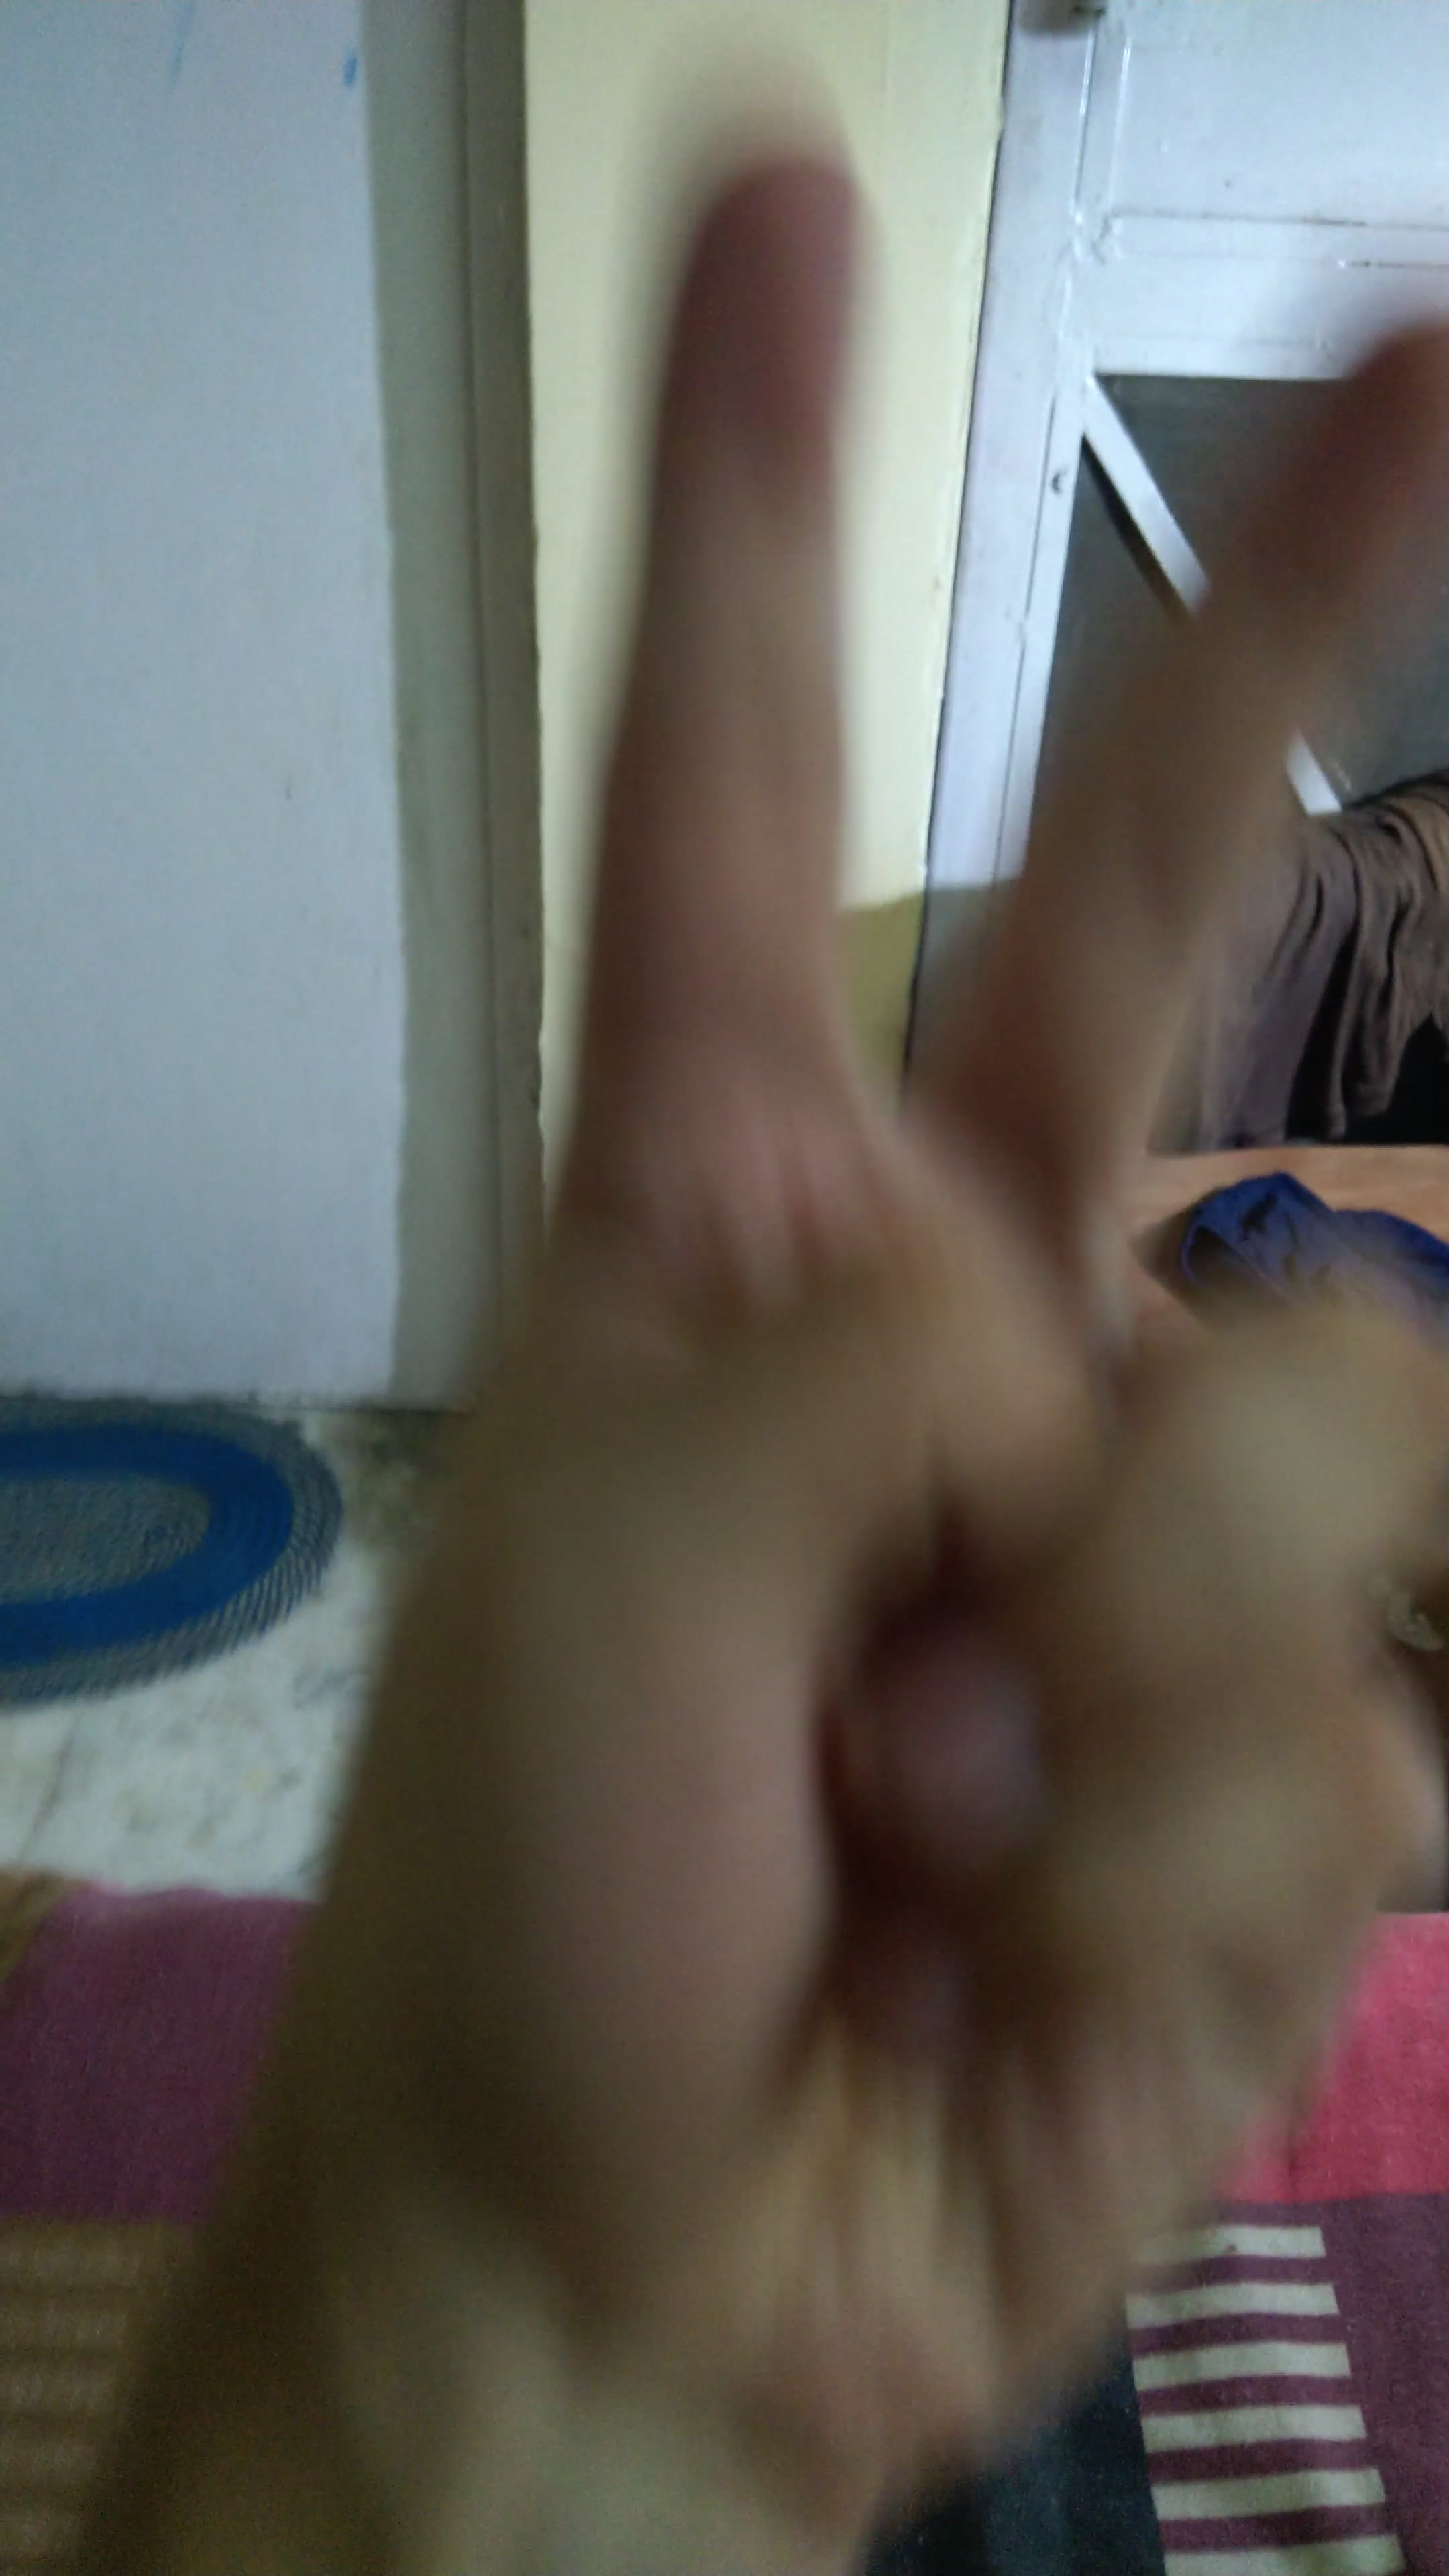hand: (170, 108, 1430, 2411)
